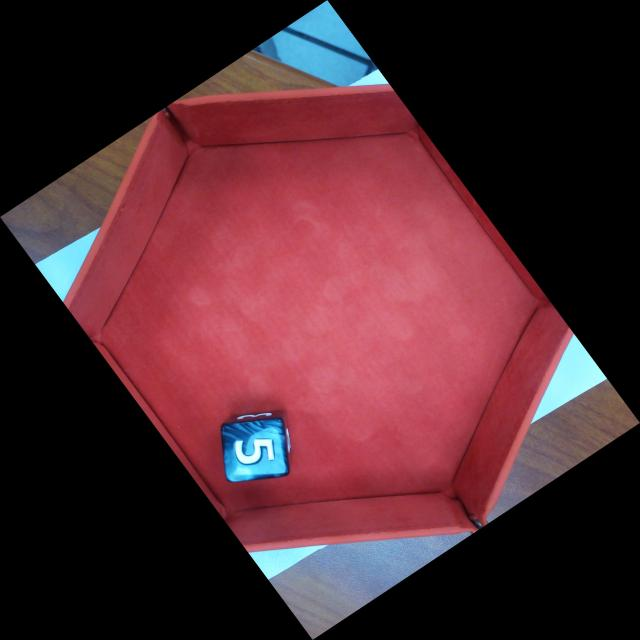dice: (221, 420, 287, 482)
